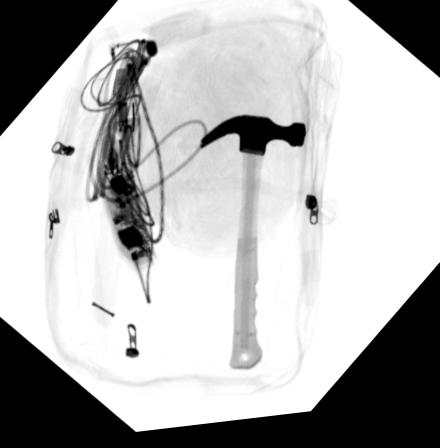Hammer: (197, 119, 306, 376)
